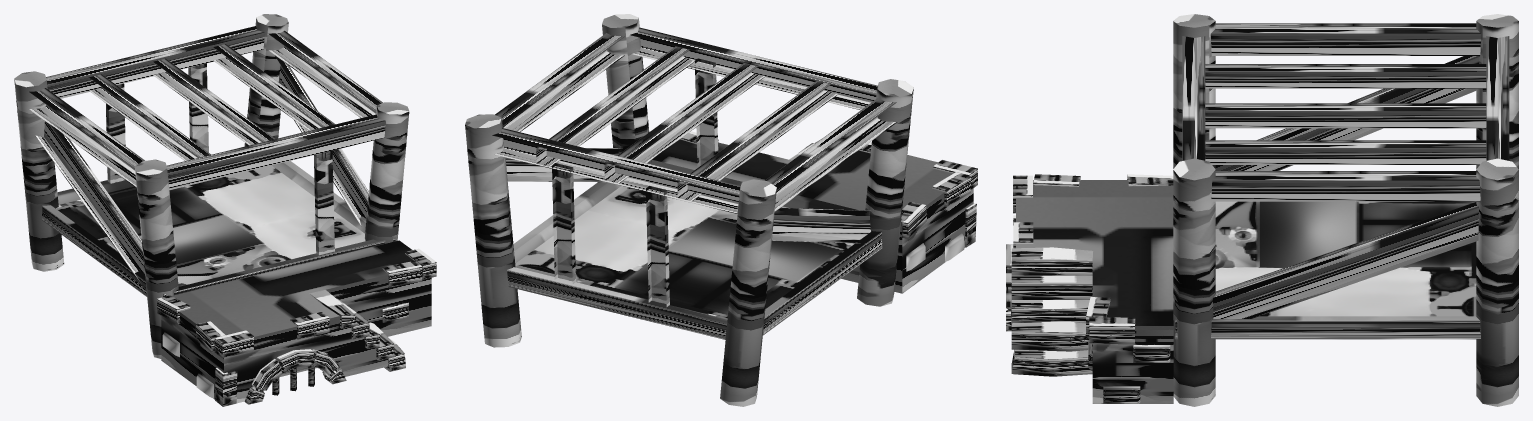
File: VikingHouse_02_L.fbx
The picture shows the model from 3 angles, left to right: view 1: azimuth 30°, elevation 25°; view 2: azimuth 150°, elevation 25°; view 3: azimuth 270°, elevation 25°; orthographic projection. The views are drawn at different scales.
Visible parts, largest first — view 1: VikingHouse_02_L; view 2: VikingHouse_02_L; view 3: VikingHouse_02_L.
Part boxes in pixels (x1,y1,x2,y2): VikingHouse_02_L: (14, 14, 436, 406); VikingHouse_02_L: (465, 14, 977, 406); VikingHouse_02_L: (1006, 14, 1518, 406).
Size of the model in its own units: 228 by 155 by 297.
Materials: 1 (1 with a texture image).
